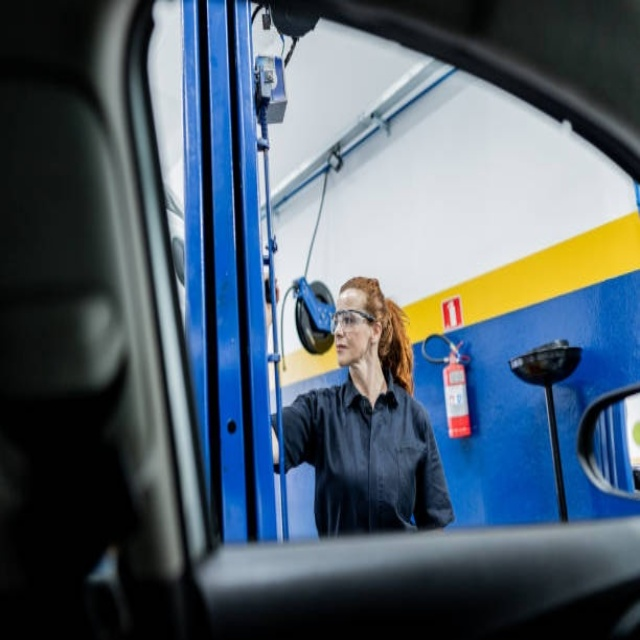Gafas: (330, 308, 377, 333)
Sin_mascara: (335, 335, 357, 365)
